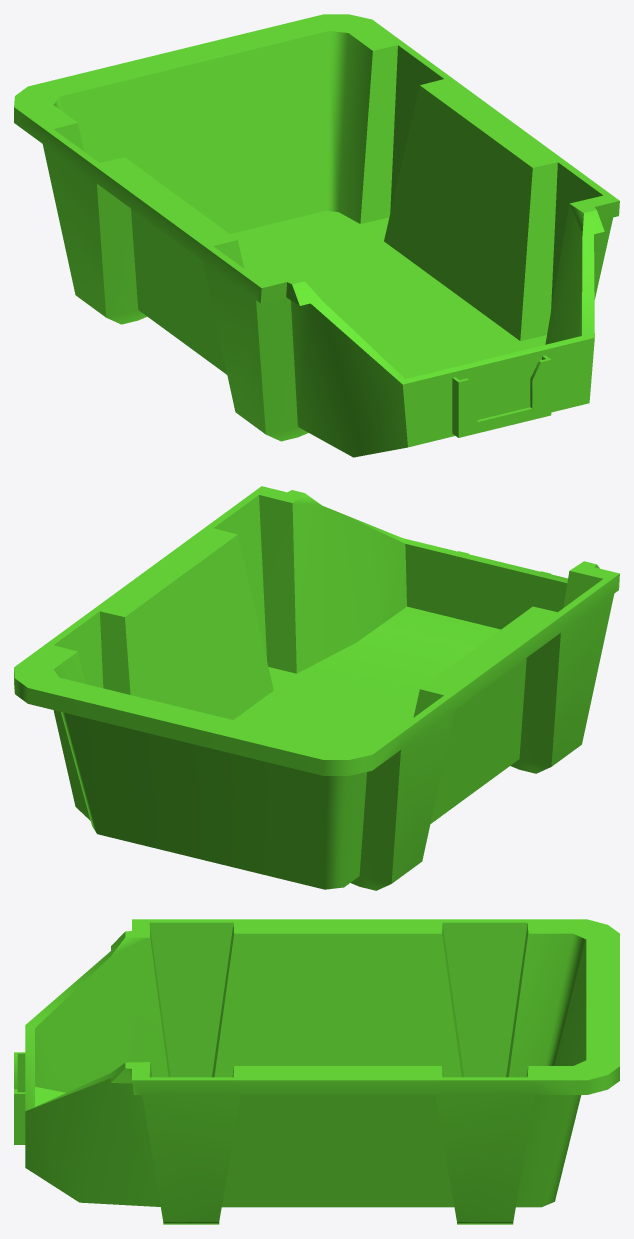
The model's file is CratePlastic_White_02.FBX.
3 renders of one model, top to bottom at view 1: azimuth 30°, elevation 25°; view 2: azimuth 150°, elevation 25°; view 3: azimuth 270°, elevation 25°, orthographic. The views are drawn at different scales.
Parts seen in each view (by area): view 1: SM_CratePlastic_B_05_LOD0; view 2: SM_CratePlastic_B_05_LOD0; view 3: SM_CratePlastic_B_05_LOD0.
Part boxes in pixels (x1,y1,x2,y2): SM_CratePlastic_B_05_LOD0: (14, 14, 619, 457); SM_CratePlastic_B_05_LOD0: (14, 486, 619, 890); SM_CratePlastic_B_05_LOD0: (14, 919, 619, 1224).
Size of the model in its own units: 29.29 by 13.63 by 46.63.
